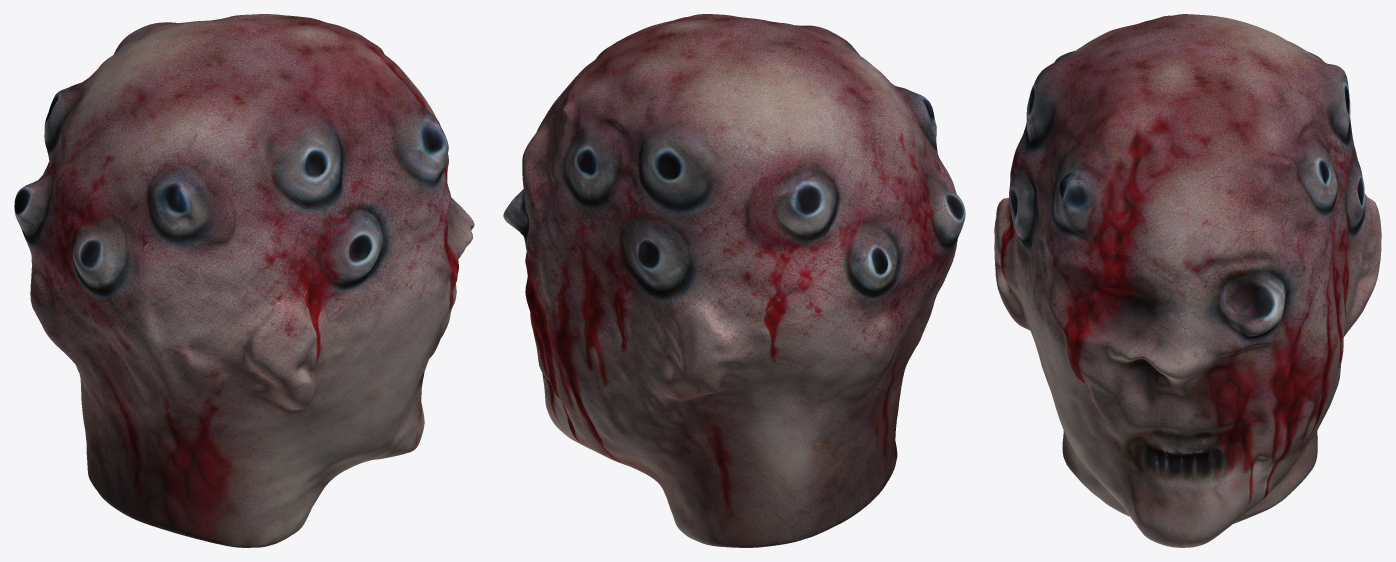
Rendered from head.glb.
3 views of the same model, side by side, from view 1: azimuth 30°, elevation 25°; view 2: azimuth 150°, elevation 25°; view 3: azimuth 270°, elevation 25° (orthographic).
Parts seen in each view (by area): view 1: The head of the eye monster; view 2: The head of the eye monster; view 3: The head of the eye monster.
Boxes of the visible parts, x1,y1,x2,y2 form: The head of the eye monster: [14, 14, 474, 547]; The head of the eye monster: [503, 14, 965, 547]; The head of the eye monster: [994, 14, 1381, 547].
Size of the model in its own units: 0.8906 by 1 by 0.7396.
Materials: 1 (1 with a texture image).
